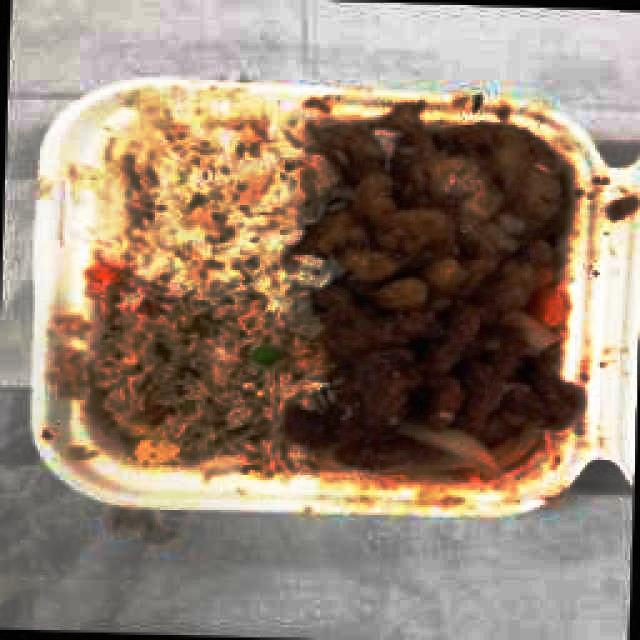Beijing Beef: (316, 272, 547, 453)
Fried Rice: (103, 276, 279, 453)
Kung Pao Chicken: (324, 109, 564, 269)
rice: (135, 128, 309, 295)
